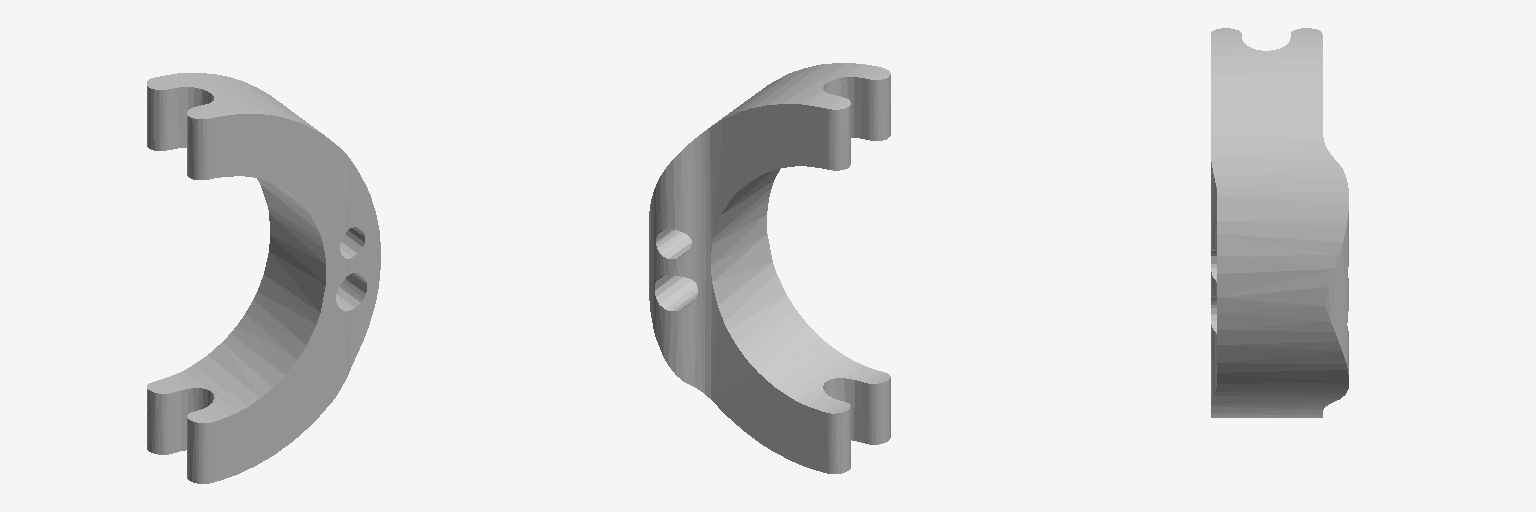
Rendered from seg14.OBJ.
The picture shows the model from 3 angles: view 1: azimuth 30°, elevation 25°; view 2: azimuth 150°, elevation 25°; view 3: azimuth 270°, elevation 25°; orthographic projection.
Visible parts, largest first — view 1: /ambf/env/seg14_seg14; view 2: /ambf/env/seg14_seg14; view 3: /ambf/env/seg14_seg14.
Part boxes in pixels (bbox=[...]): /ambf/env/seg14_seg14: bbox=[147, 73, 380, 483]; /ambf/env/seg14_seg14: bbox=[649, 63, 890, 473]; /ambf/env/seg14_seg14: bbox=[1211, 28, 1348, 417].
Size of the model in its own units: 0.0032 by 0.006 by 0.0021.